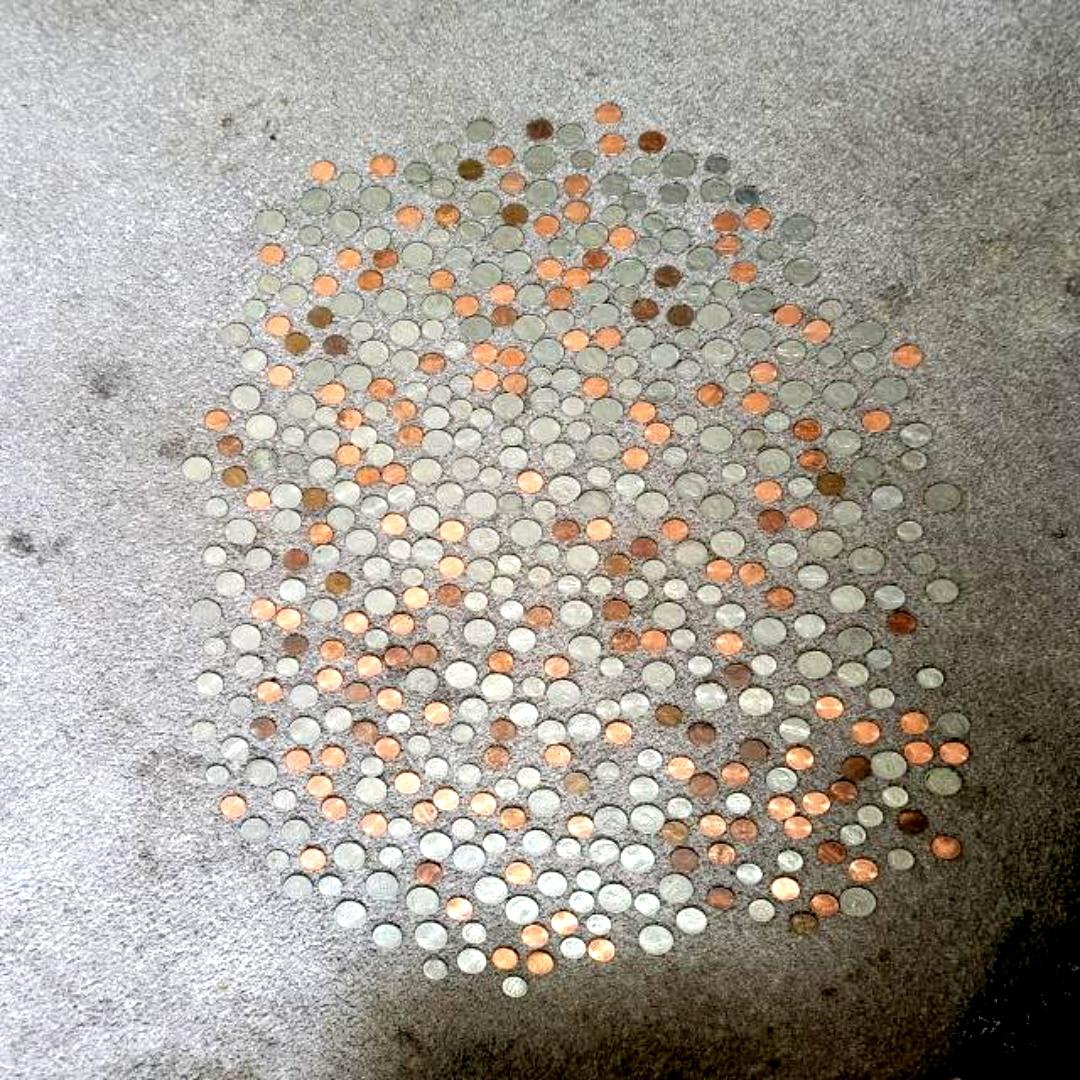Dime: (838, 822, 866, 846), (748, 898, 774, 922), (560, 936, 586, 960), (855, 806, 885, 826), (450, 818, 476, 840), (750, 654, 777, 675), (783, 684, 810, 705), (868, 689, 895, 710), (895, 522, 923, 542), (886, 850, 914, 870), (866, 648, 892, 669), (778, 851, 804, 872), (576, 871, 602, 892), (502, 976, 528, 997), (422, 959, 448, 980), (756, 241, 783, 261), (667, 798, 694, 818), (725, 794, 752, 814), (880, 786, 907, 806), (917, 668, 944, 688), (600, 656, 624, 678), (516, 766, 540, 788), (556, 838, 580, 860), (276, 657, 302, 677), (520, 677, 546, 697), (546, 238, 572, 258), (704, 155, 730, 175), (612, 355, 638, 375), (616, 379, 642, 399), (526, 566, 552, 586), (662, 446, 688, 466), (740, 430, 766, 450), (720, 463, 746, 483), (900, 451, 926, 471), (910, 554, 936, 574), (686, 656, 712, 676), (670, 629, 696, 649), (586, 576, 612, 596), (594, 700, 620, 720), (378, 846, 404, 866), (494, 779, 520, 799), (736, 864, 762, 884), (634, 894, 660, 914), (483, 832, 506, 854), (586, 915, 610, 936), (462, 923, 486, 944), (600, 205, 625, 225), (478, 468, 503, 488), (557, 576, 582, 596), (622, 192, 646, 212), (636, 237, 660, 257), (818, 300, 842, 320), (852, 353, 876, 373), (818, 346, 842, 366), (764, 412, 788, 432), (676, 360, 700, 380), (676, 329, 700, 349), (714, 279, 738, 299), (686, 284, 710, 304), (614, 285, 638, 305), (404, 382, 428, 402), (444, 340, 468, 360), (202, 546, 226, 566), (426, 614, 450, 634), (400, 567, 424, 587), (464, 592, 488, 612), (490, 577, 514, 597), (536, 544, 560, 564), (532, 500, 556, 520), (498, 494, 522, 514), (500, 426, 524, 446), (586, 467, 610, 487), (788, 478, 812, 498), (698, 585, 722, 605), (664, 579, 688, 599), (624, 579, 648, 599), (364, 630, 388, 650), (228, 696, 252, 716), (202, 636, 226, 656), (206, 765, 230, 785), (360, 757, 384, 777), (424, 758, 448, 778), (266, 850, 290, 870), (388, 818, 412, 838), (596, 762, 620, 782), (638, 749, 662, 769), (570, 892, 594, 912), (726, 372, 752, 390), (386, 713, 412, 731), (421, 319, 444, 339), (282, 453, 305, 473), (501, 600, 524, 620), (567, 421, 590, 441), (674, 415, 697, 435), (192, 721, 215, 741), (272, 789, 295, 809), (406, 735, 429, 755), (642, 214, 664, 234), (562, 397, 584, 417), (528, 367, 550, 387), (450, 375, 472, 395), (244, 300, 266, 320), (388, 538, 410, 558), (498, 554, 520, 574), (642, 560, 664, 580), (458, 765, 480, 785), (320, 876, 342, 896), (632, 158, 653, 178), (572, 152, 595, 170), (406, 275, 429, 293), (351, 322, 374, 340), (315, 407, 338, 425), (450, 724, 473, 742), (206, 498, 226, 518), (338, 173, 360, 191), (428, 229, 450, 247), (736, 187, 758, 205), (470, 409, 492, 427), (450, 400, 472, 418), (428, 385, 450, 403), (364, 402, 386, 420), (258, 275, 280, 293), (282, 427, 304, 445), (432, 180, 453, 198), (436, 145, 457, 163), (300, 226, 320, 244)
Nickel: (937, 713, 970, 740), (899, 422, 931, 448), (873, 584, 905, 610), (926, 579, 958, 604), (831, 500, 861, 526), (798, 564, 828, 590), (619, 692, 649, 718), (629, 776, 659, 802), (676, 908, 706, 934), (589, 838, 619, 864), (522, 830, 552, 856), (457, 948, 487, 974), (372, 924, 402, 950), (467, 558, 497, 584), (872, 486, 904, 510), (779, 718, 811, 742), (837, 662, 869, 686), (765, 768, 797, 792), (661, 228, 689, 254), (740, 328, 770, 352), (615, 474, 645, 498), (794, 614, 824, 638), (716, 604, 746, 628), (537, 872, 567, 896), (598, 174, 628, 198), (458, 698, 488, 722), (536, 720, 566, 744), (625, 326, 655, 349), (767, 543, 797, 566), (852, 458, 882, 481), (529, 388, 559, 411), (444, 246, 472, 270), (518, 284, 546, 308), (388, 484, 416, 508), (507, 628, 535, 652), (510, 702, 538, 726), (241, 818, 269, 842), (327, 506, 355, 530), (466, 120, 494, 144), (284, 876, 312, 900), (555, 126, 585, 148), (775, 342, 805, 364), (589, 304, 619, 326), (457, 221, 485, 244), (701, 179, 729, 202), (647, 381, 675, 404), (551, 369, 579, 392), (391, 351, 419, 374), (436, 483, 464, 506), (454, 428, 482, 451), (421, 406, 449, 429), (500, 446, 528, 469), (362, 558, 390, 581), (333, 480, 361, 503), (290, 683, 318, 706), (308, 458, 336, 481), (281, 820, 309, 843), (581, 282, 609, 305), (404, 164, 432, 186), (291, 256, 319, 278), (502, 252, 530, 274), (688, 248, 716, 270), (658, 184, 686, 206), (651, 344, 679, 366), (545, 310, 573, 332), (350, 426, 378, 448), (366, 444, 394, 466), (452, 458, 480, 480), (274, 510, 302, 532), (360, 496, 388, 518), (244, 548, 272, 570), (196, 672, 224, 694), (236, 656, 264, 678), (324, 708, 352, 730), (310, 598, 338, 620), (364, 228, 391, 250), (240, 349, 268, 370), (222, 323, 250, 344), (280, 286, 308, 307), (312, 546, 340, 566), (221, 738, 249, 758), (280, 580, 307, 600)
Penny: (897, 810, 927, 836), (841, 756, 871, 780), (708, 886, 734, 912), (767, 796, 795, 820), (670, 848, 698, 872), (588, 938, 616, 962), (810, 892, 838, 916), (772, 876, 800, 900), (499, 806, 526, 830), (750, 362, 778, 385), (894, 344, 922, 367), (786, 747, 814, 770), (739, 740, 767, 763), (817, 842, 845, 865), (900, 712, 930, 733), (939, 742, 969, 763), (931, 836, 961, 857), (492, 946, 518, 970), (522, 924, 548, 948), (552, 910, 576, 936), (791, 914, 818, 937), (863, 410, 891, 432), (886, 612, 914, 634), (848, 860, 876, 882), (504, 862, 532, 884), (444, 898, 472, 920), (814, 698, 844, 718), (424, 702, 450, 725), (528, 952, 554, 975), (744, 208, 771, 230), (758, 510, 785, 532), (669, 758, 696, 780), (415, 862, 442, 884), (472, 370, 500, 391), (904, 742, 932, 763), (802, 792, 830, 813), (700, 814, 724, 838), (654, 266, 680, 288), (562, 330, 588, 352), (284, 332, 310, 354), (800, 450, 826, 472), (790, 508, 816, 530), (644, 422, 670, 444), (604, 554, 630, 576), (250, 598, 276, 620), (342, 612, 368, 634), (526, 606, 552, 628), (282, 634, 308, 656), (713, 213, 740, 234), (755, 481, 782, 502), (412, 645, 439, 666), (640, 631, 667, 652), (722, 764, 749, 785), (562, 202, 590, 222), (482, 747, 510, 767), (852, 722, 880, 742), (829, 782, 857, 802), (784, 818, 812, 838), (689, 776, 717, 796), (661, 822, 689, 842), (434, 204, 459, 226), (725, 664, 750, 686), (413, 802, 438, 824), (638, 133, 664, 154), (308, 308, 334, 329), (794, 419, 820, 440), (818, 473, 844, 494), (518, 472, 544, 493), (384, 646, 410, 667), (688, 725, 714, 746), (376, 689, 402, 710), (316, 668, 342, 689), (562, 772, 588, 793), (728, 263, 755, 283), (706, 560, 733, 580), (610, 632, 637, 652), (654, 706, 681, 726), (604, 722, 631, 742), (567, 816, 594, 836), (219, 796, 246, 816), (488, 146, 512, 168), (698, 384, 722, 406), (584, 376, 608, 398), (320, 382, 344, 404), (662, 520, 686, 542), (382, 514, 406, 536), (218, 436, 242, 458), (546, 656, 570, 678), (434, 788, 458, 810), (622, 447, 647, 468), (458, 160, 484, 180), (502, 205, 528, 225), (716, 236, 742, 256), (336, 250, 362, 270), (490, 284, 516, 304), (536, 260, 562, 280), (632, 300, 658, 320), (776, 306, 802, 326), (630, 402, 656, 422), (498, 348, 524, 368), (502, 374, 528, 394), (472, 344, 498, 364), (766, 588, 792, 608), (630, 538, 656, 558), (586, 520, 612, 540), (552, 522, 578, 542), (438, 522, 464, 542), (438, 556, 464, 576), (308, 524, 334, 544), (282, 550, 308, 570), (436, 586, 462, 606), (404, 588, 430, 608), (604, 600, 630, 620), (716, 634, 742, 654), (490, 722, 516, 742), (374, 738, 400, 758), (352, 722, 378, 742), (256, 682, 282, 702), (250, 718, 276, 738), (730, 820, 756, 840), (708, 844, 734, 864), (470, 794, 496, 814), (320, 798, 346, 818), (300, 850, 326, 870), (596, 105, 620, 126), (600, 135, 624, 156), (500, 173, 524, 194), (668, 305, 692, 326), (744, 392, 768, 413), (320, 640, 344, 661), (346, 683, 370, 704), (286, 750, 310, 771), (396, 772, 420, 793), (268, 364, 290, 386), (338, 408, 360, 430), (302, 488, 324, 510), (564, 176, 588, 196), (528, 120, 552, 140), (534, 216, 558, 236), (610, 228, 634, 248), (314, 276, 338, 296), (564, 268, 588, 288), (584, 250, 608, 270), (806, 322, 830, 342), (596, 328, 620, 348), (420, 354, 444, 374), (322, 336, 346, 356), (266, 316, 290, 336), (740, 564, 764, 584), (382, 464, 406, 484), (336, 445, 360, 465), (222, 468, 246, 488), (326, 574, 350, 594), (276, 608, 300, 628), (390, 614, 414, 634), (358, 656, 382, 676), (546, 746, 570, 766), (322, 748, 346, 768), (308, 776, 332, 796), (362, 814, 386, 834), (260, 245, 283, 265), (373, 250, 396, 270), (399, 426, 422, 446), (356, 467, 379, 487), (398, 207, 420, 227), (494, 306, 516, 326), (548, 289, 570, 309), (370, 379, 392, 399), (246, 490, 268, 510), (490, 652, 512, 672), (454, 297, 478, 315), (392, 402, 416, 420), (206, 411, 230, 429), (370, 157, 393, 175), (311, 162, 334, 180), (359, 272, 382, 290), (430, 271, 452, 289)
Quarter: (924, 483, 961, 513), (840, 887, 876, 917), (638, 925, 674, 955), (924, 767, 962, 795), (849, 320, 886, 348), (620, 844, 654, 874), (414, 922, 448, 952), (826, 430, 862, 458), (822, 382, 858, 410), (692, 682, 728, 710), (738, 687, 774, 715), (752, 618, 788, 646), (796, 651, 832, 679), (870, 752, 906, 780), (658, 875, 694, 903), (404, 887, 440, 915), (598, 883, 631, 913), (567, 636, 602, 664), (698, 426, 734, 453), (672, 540, 708, 567), (546, 681, 582, 708), (783, 260, 820, 286), (836, 628, 873, 654), (828, 586, 865, 612), (780, 216, 814, 244), (696, 303, 730, 331), (474, 876, 508, 904), (452, 844, 486, 872), (332, 842, 366, 870), (334, 901, 368, 929), (807, 530, 842, 557), (872, 378, 908, 404), (778, 382, 814, 408), (741, 288, 774, 316), (757, 448, 790, 476), (543, 442, 576, 470), (642, 662, 675, 690), (631, 805, 664, 833), (420, 832, 453, 860), (710, 530, 744, 557), (420, 430, 454, 457), (364, 589, 398, 616), (662, 152, 694, 180), (613, 258, 645, 286), (578, 490, 610, 518), (344, 528, 376, 556), (568, 713, 600, 741), (594, 807, 626, 835), (506, 896, 538, 924), (246, 758, 278, 786), (466, 491, 498, 519), (700, 495, 733, 522), (675, 474, 708, 501), (490, 226, 524, 252), (850, 548, 884, 574), (466, 528, 500, 554), (404, 668, 438, 694), (468, 192, 500, 219), (524, 146, 556, 173), (586, 433, 618, 460), (566, 545, 598, 572), (510, 518, 542, 545), (224, 518, 256, 545), (482, 675, 514, 702), (654, 603, 686, 630), (528, 788, 560, 815), (575, 222, 608, 248), (590, 398, 623, 424), (403, 242, 433, 270), (214, 572, 246, 598), (230, 624, 262, 650), (359, 186, 391, 212), (702, 340, 734, 366), (636, 492, 668, 518), (548, 476, 580, 502), (412, 540, 444, 566), (407, 506, 439, 532), (358, 340, 390, 366), (460, 316, 492, 342), (422, 294, 454, 320), (464, 620, 496, 646), (445, 662, 477, 688), (560, 600, 592, 626), (365, 872, 397, 898), (355, 778, 387, 804), (289, 718, 321, 744), (410, 460, 444, 484), (471, 262, 501, 289), (492, 394, 524, 419), (190, 600, 222, 625), (575, 348, 608, 372), (512, 316, 545, 340), (255, 210, 285, 236), (247, 448, 277, 474), (247, 414, 277, 440), (269, 484, 301, 508), (329, 212, 361, 236), (527, 182, 559, 206), (528, 418, 560, 442), (308, 430, 340, 454), (340, 364, 372, 388), (303, 360, 335, 384), (532, 340, 564, 364), (376, 290, 408, 314), (333, 292, 363, 317), (301, 190, 331, 214), (286, 394, 316, 418), (182, 456, 212, 480), (231, 386, 261, 410), (389, 320, 419, 344)
